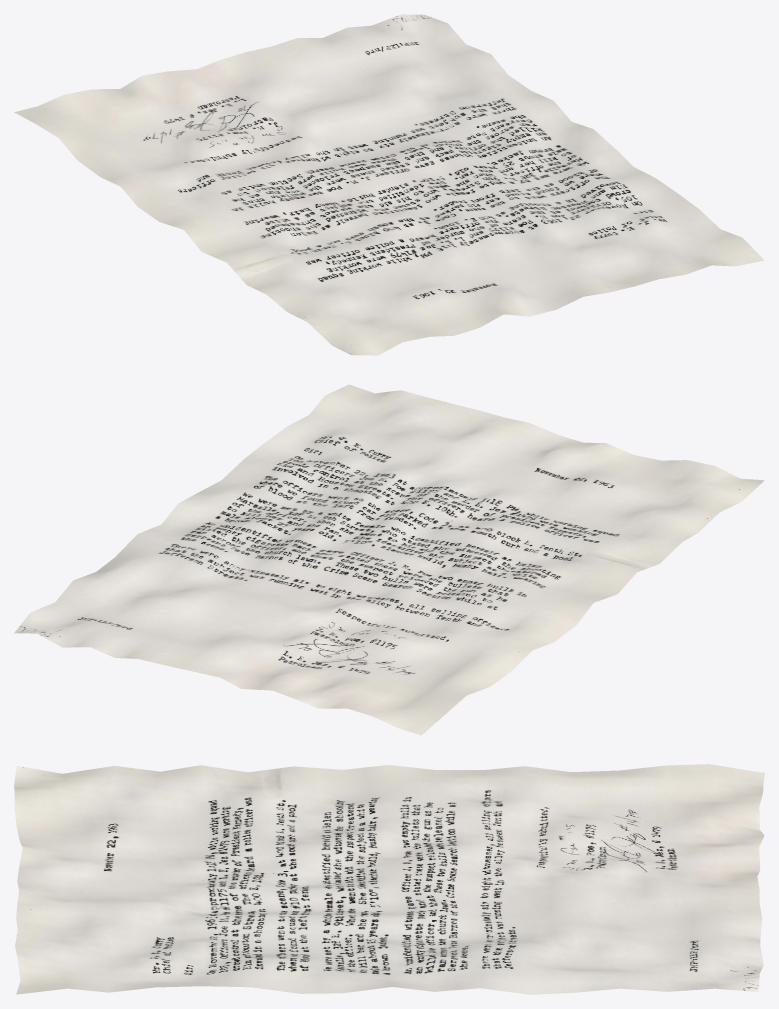
File: crumple1.gltf
The picture shows the model from 3 angles, top to bottom: view 1: azimuth 30°, elevation 25°; view 2: azimuth 150°, elevation 25°; view 3: azimuth 270°, elevation 25°; orthographic projection. The views are drawn at different scales.
Parts seen in each view (by area): view 1: Plane; view 2: Plane; view 3: Plane.
Boxes of the visible parts, bbox=[...] form: Plane: bbox=[14, 14, 764, 355]; Plane: bbox=[14, 384, 764, 735]; Plane: bbox=[14, 764, 764, 994].
Bounding box in the file's own units: 0.8118 × 0.0151 × 1.15.
1 material, 1 textured.
